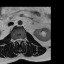CCS_normal: (18, 36, 20, 45)
LFS_normal: (22, 37, 24, 42)
LLS_normal: (20, 36, 22, 42)
RFS_normal: (14, 37, 16, 43)
RLS_normal: (16, 37, 18, 43)
